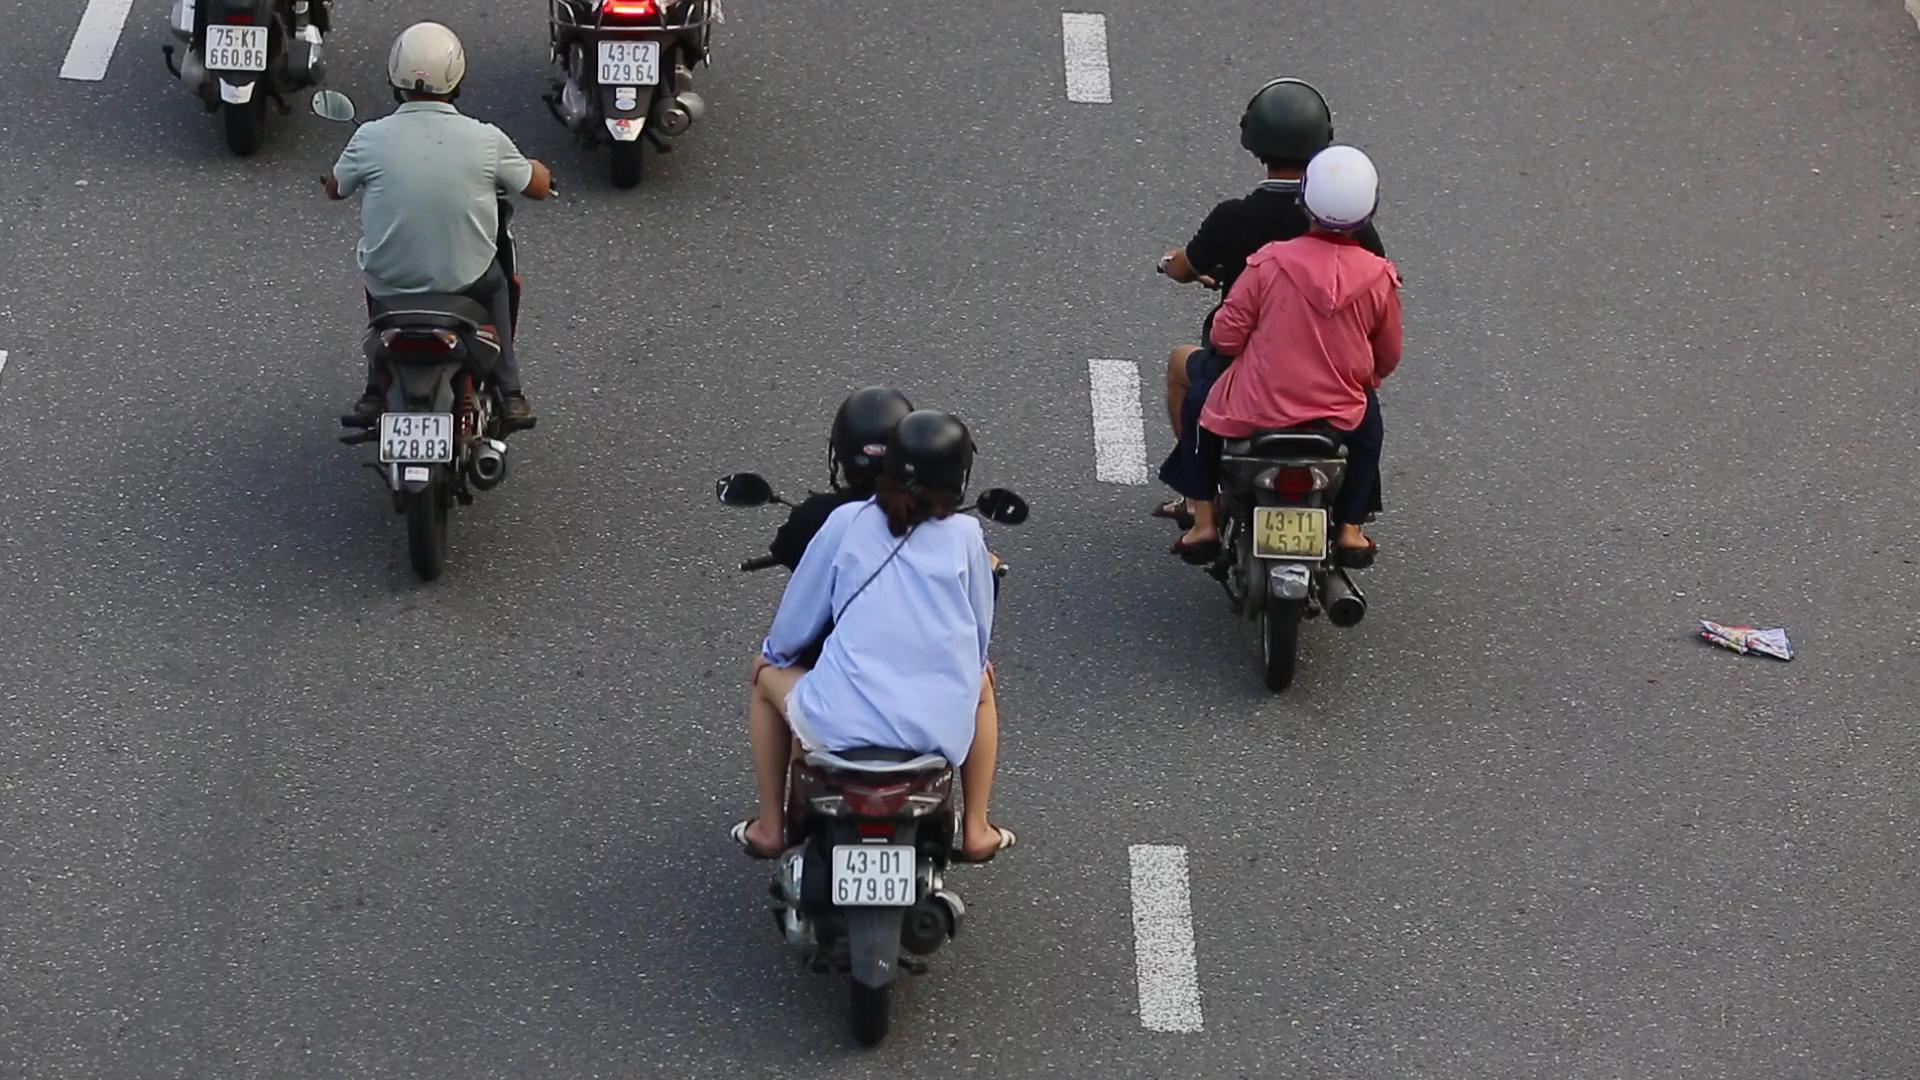motobike: (704, 381, 1029, 1048), (1151, 66, 1414, 702), (327, 12, 567, 626)
